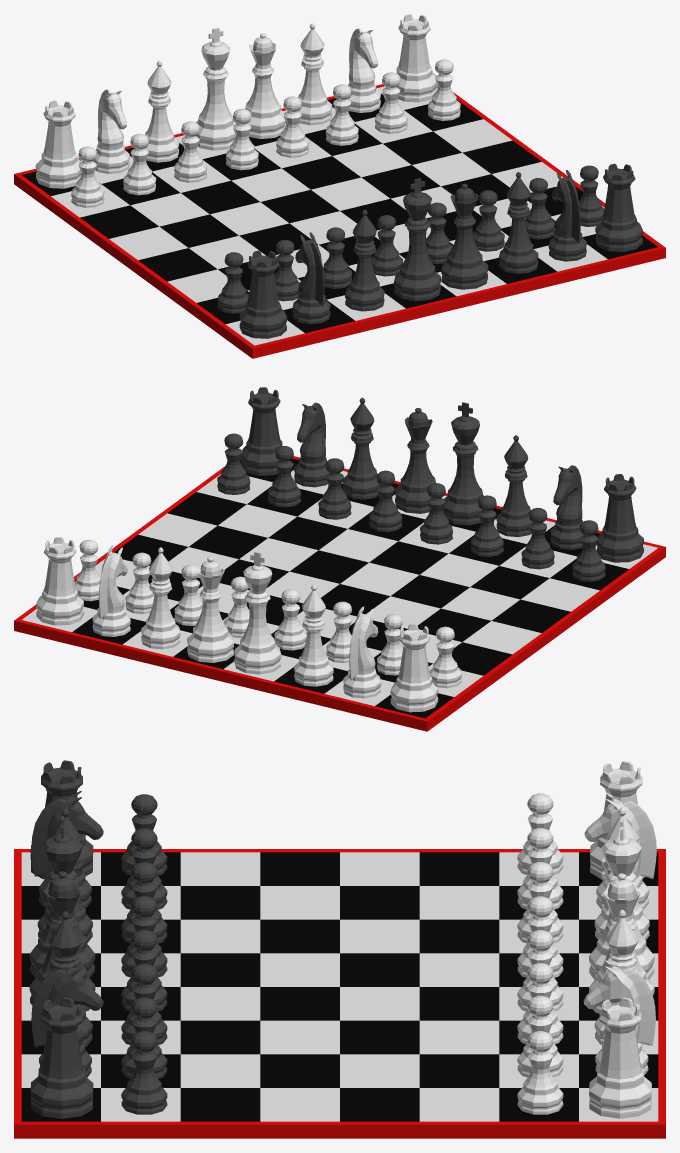
Rendered from asset.glb.
3 renders of one model, top to bottom at view 1: azimuth 30°, elevation 25°; view 2: azimuth 150°, elevation 25°; view 3: azimuth 270°, elevation 25°, orthographic. The views are drawn at different scales.
Visible parts, largest first — view 1: Plane, rei_black, rei_white, torre_black.001, torre_black, rainha_black, torre_white, torre_white.001, rainha_white, bispo_black, bispo_black.001, cavalo_white (+21 smaller); view 2: Plane, rei_white, rei_black, torre_white, torre_white.001, rainha_white, torre_black.001, torre_black, rainha_black, bispo_white.001, bispo_white, cavalo_black.001 (+21 smaller); view 3: Plane, torre_white.001, torre_black, cavalo_white.001, cavalo_white, cavalo_black, cavalo_black.001, rei_white, rei_black, peao_black, peao_white.007, rainha_black (+21 smaller).
Part boxes in pixels (<box>): Plane: <box>14,84,665,358</box>; rei_black: <box>394,178,440,301</box>; rei_white: <box>196,27,236,150</box>; torre_black.001: <box>239,250,287,338</box>; torre_black: <box>595,163,642,251</box>; rainha_black: <box>441,183,488,289</box>; torre_white: <box>35,100,81,188</box>; torre_white.001: <box>396,14,437,102</box>; rainha_white: <box>245,33,286,138</box>; bispo_black: <box>345,209,384,311</box>; bispo_black.001: <box>499,172,538,273</box>; cavalo_white: <box>93,89,129,173</box>; Plane: <box>14,456,665,731</box>; rei_white: <box>234,551,281,674</box>; rei_black: <box>443,402,483,525</box>; torre_white: <box>390,623,438,712</box>; torre_white.001: <box>36,537,83,625</box>; rainha_white: <box>187,557,233,662</box>; torre_black.001: <box>596,474,643,562</box>; torre_black: <box>240,387,282,475</box>; rainha_black: <box>395,408,435,513</box>; bispo_white.001: <box>294,584,333,686</box>; bispo_white: <box>141,547,180,649</box>; cavalo_black.001: <box>294,402,329,487</box>; Plane: <box>14,849,665,1138</box>; torre_white.001: <box>589,997,651,1118</box>; torre_black: <box>30,997,93,1118</box>; cavalo_white.001: <box>583,960,655,1075</box>; cavalo_white: <box>584,793,656,909</box>; cavalo_black: <box>31,791,103,907</box>; cavalo_black.001: <box>31,962,103,1077</box>; rei_white: <box>589,818,654,979</box>; rei_black: <box>29,816,95,977</box>; peao_black: <box>121,1031,167,1114</box>; peao_white.007: <box>517,1031,563,1114</box>; rainha_black: <box>29,871,95,1011</box>.
Bounding box in the file's own units: 2.05 × 0.5787 × 2.05.
